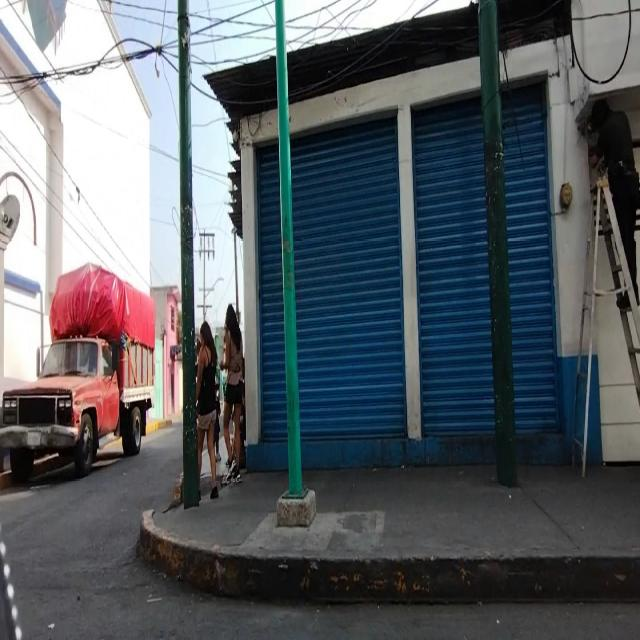adult: (590, 99, 640, 308), (219, 302, 244, 485), (195, 320, 219, 500)
